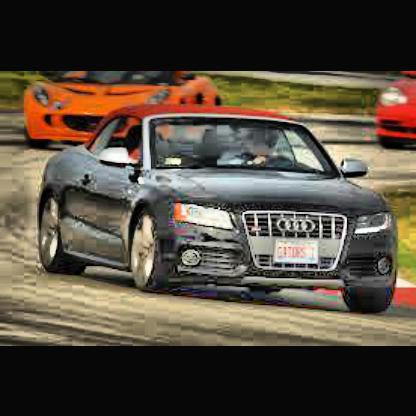Audi S5 Convertible 2012: (39, 115, 400, 316)
